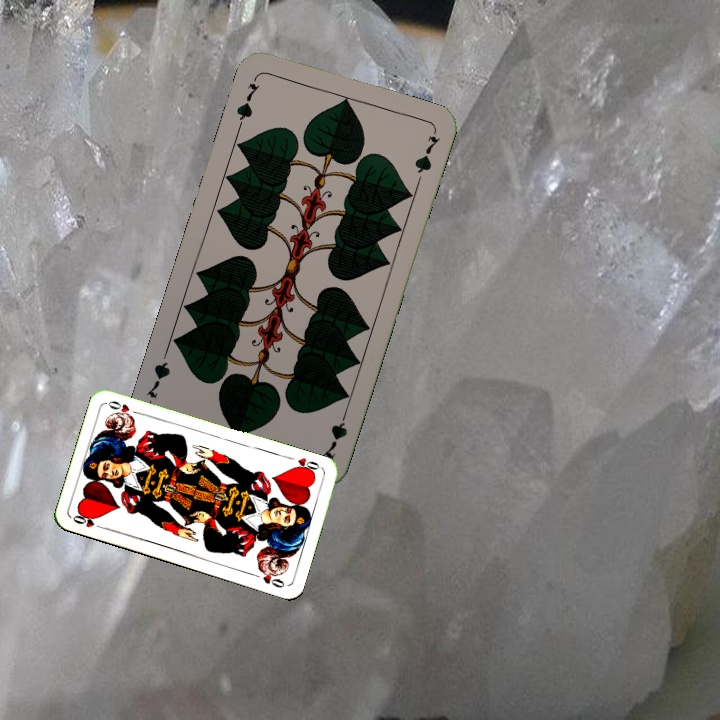G7: (318, 405, 351, 462), (232, 71, 263, 129)
HO: (69, 509, 108, 532), (289, 454, 324, 477)
